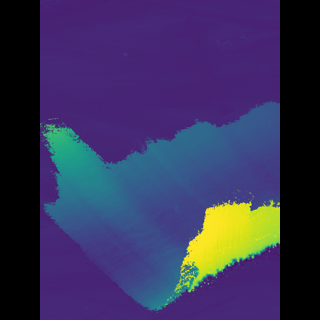Loch: (69, 91, 250, 317)
